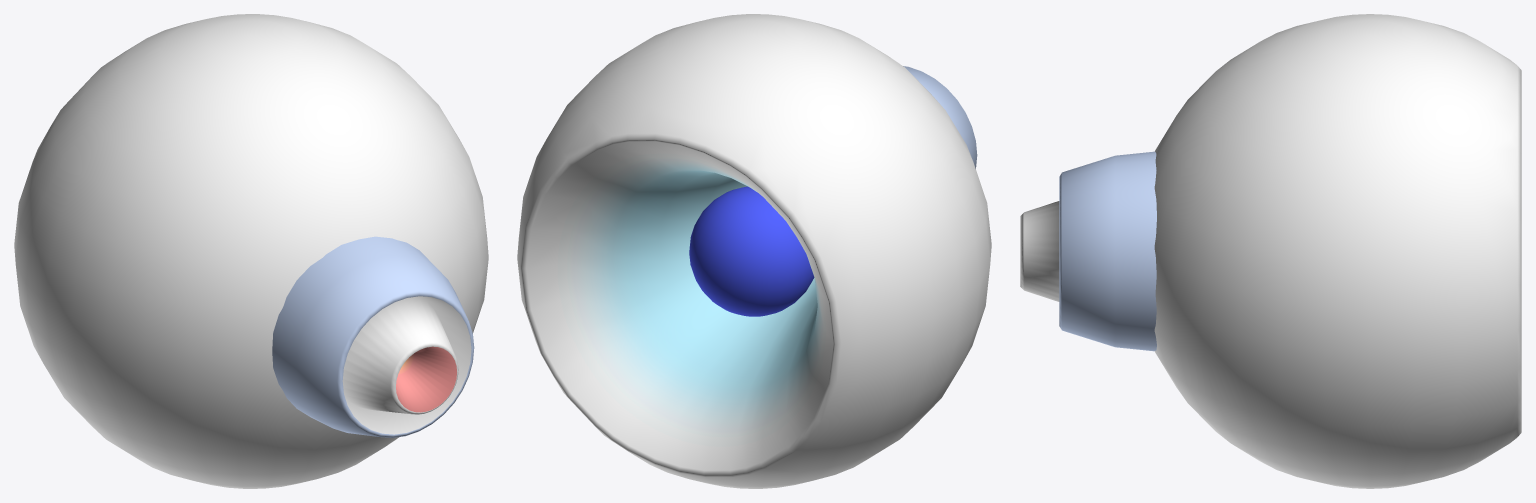
The model's file is flier.fbx.
3 renders of one model, left to right at view 1: azimuth 30°, elevation 25°; view 2: azimuth 150°, elevation 25°; view 3: azimuth 270°, elevation 25°, orthographic.
Parts seen in each view (by area): view 1: Sphere, Cylinder; view 2: Sphere, Cylinder; view 3: Sphere, Cylinder.
Part boxes in pixels (x1,y1,x2,y2): Sphere: [14, 14, 488, 488]; Cylinder: [272, 236, 474, 437]; Sphere: [517, 14, 991, 488]; Cylinder: [903, 66, 977, 168]; Sphere: [1154, 14, 1521, 488]; Cylinder: [1020, 151, 1156, 351].
Bounding box in the file's own units: 4 × 4 × 4.22.
